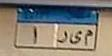1: (31, 24, 39, 46)
meem: (83, 27, 93, 47)
raa: (56, 29, 69, 46)
yaa: (69, 29, 82, 46)
